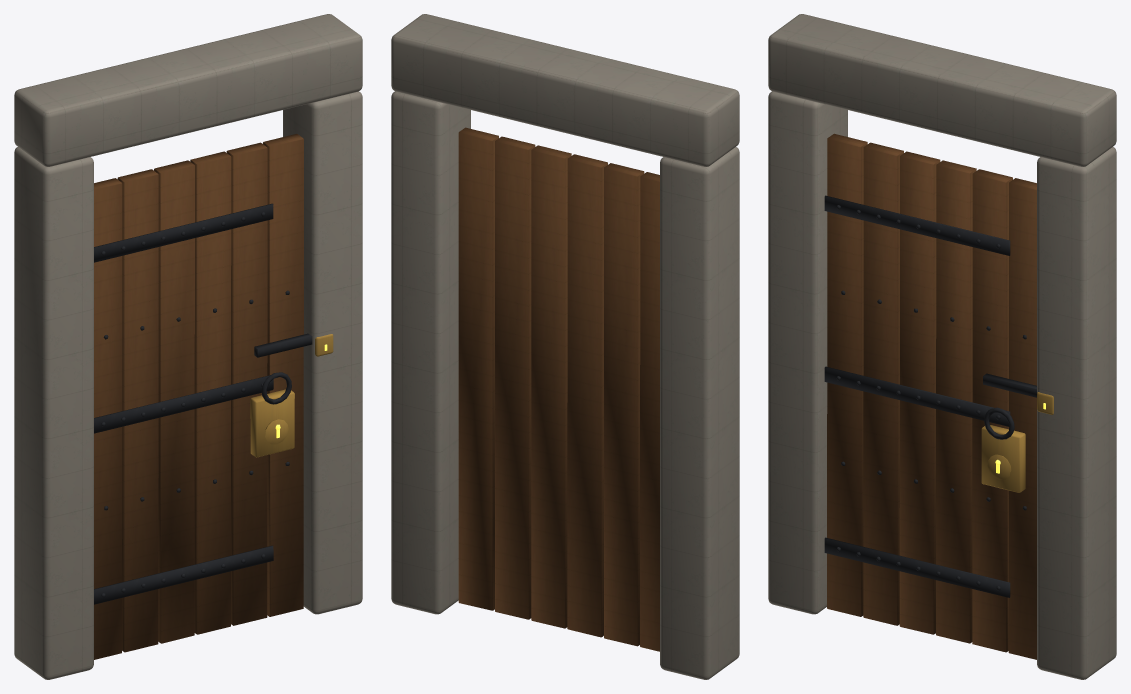
Rendered from porta-dos-fundos-medio.glb.
3 views of the same model, side by side, from view 1: azimuth 30°, elevation 25°; view 2: azimuth 150°, elevation 25°; view 3: azimuth 330°, elevation 25° (orthographic).
Visible parts, largest first — view 1: folha, ombreira--1, ombreira-1, verga; view 2: folha, ombreira--1, ombreira-1, verga; view 3: folha, ombreira-1, ombreira--1, verga.
Part boxes in pixels (x1,y1,x2,y2): folha: [94, 134, 312, 659]; ombreira--1: [14, 147, 93, 679]; ombreira-1: [283, 91, 362, 614]; verga: [14, 14, 362, 166]; folha: [458, 127, 659, 651]; ombreira--1: [660, 147, 739, 679]; ombreira-1: [391, 91, 470, 614]; verga: [391, 14, 739, 166]; folha: [824, 133, 1036, 659]; ombreira-1: [1037, 147, 1116, 679]; ombreira--1: [768, 91, 847, 614]; verga: [768, 14, 1116, 166].
Size of the model in its own units: 1.76 by 3 by 0.335.
Materials: 5 (4 with a texture image).
